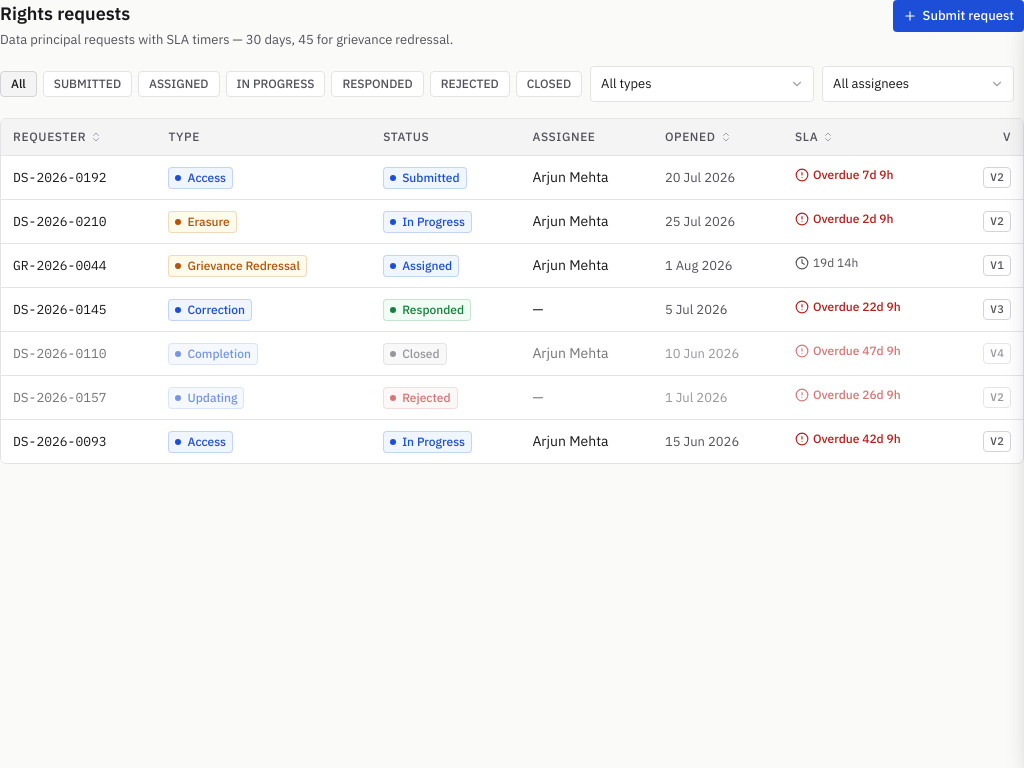
Test case: RightsView (§9.6) › rejects a request — summary is required and becomes part of the audit trail
Click the text "DS-2026-0192" at (60, 177), box [13, 169, 107, 186]
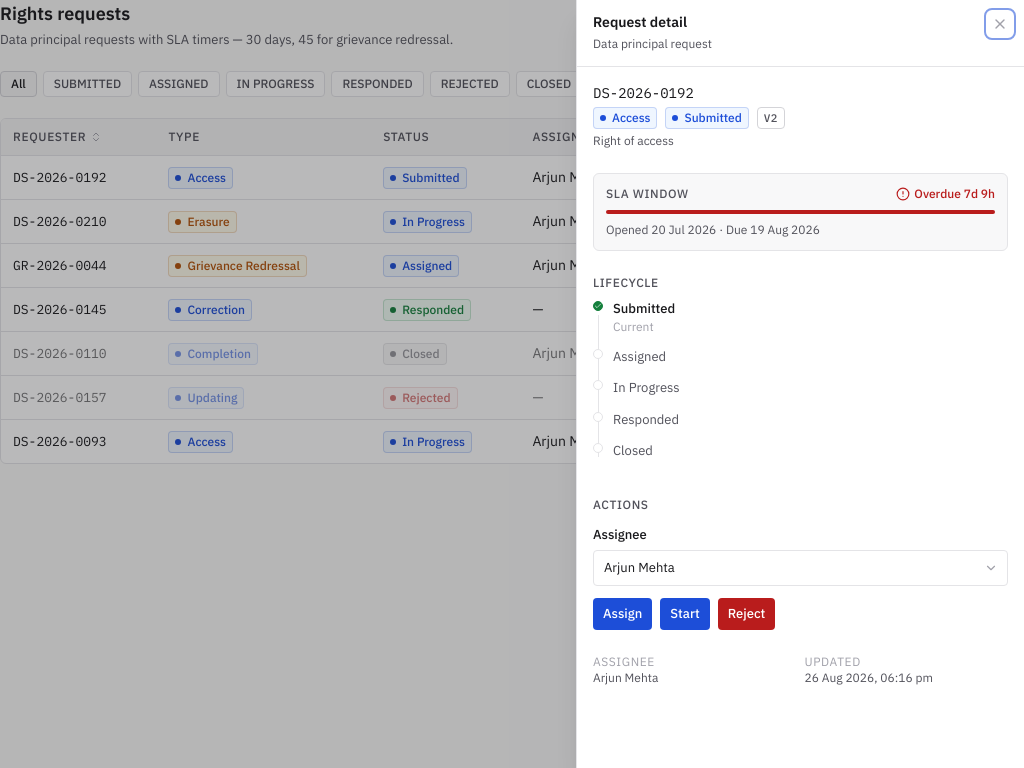
Click the button "Reject" at (747, 614), box [718, 598, 775, 630]
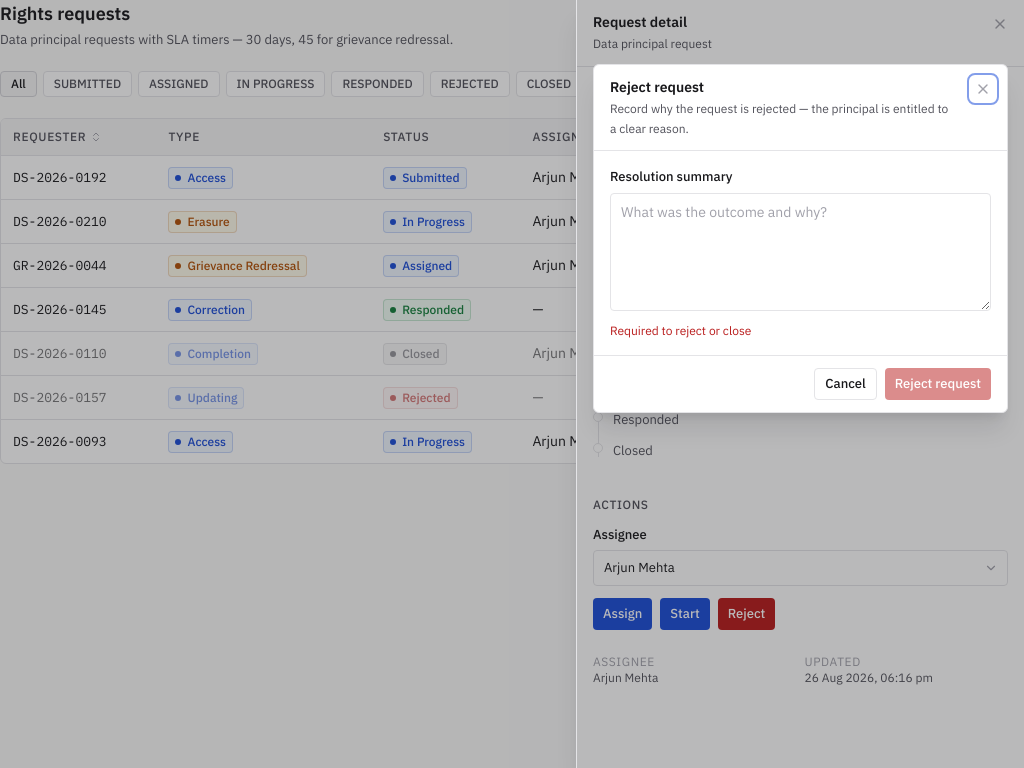
Expected: the button "Reject request" is disabled, [885, 368, 991, 400]
Type "Identity could not be verified against records." into the text box labelled "Resolution summary" at (800, 252), box [610, 192, 991, 310]
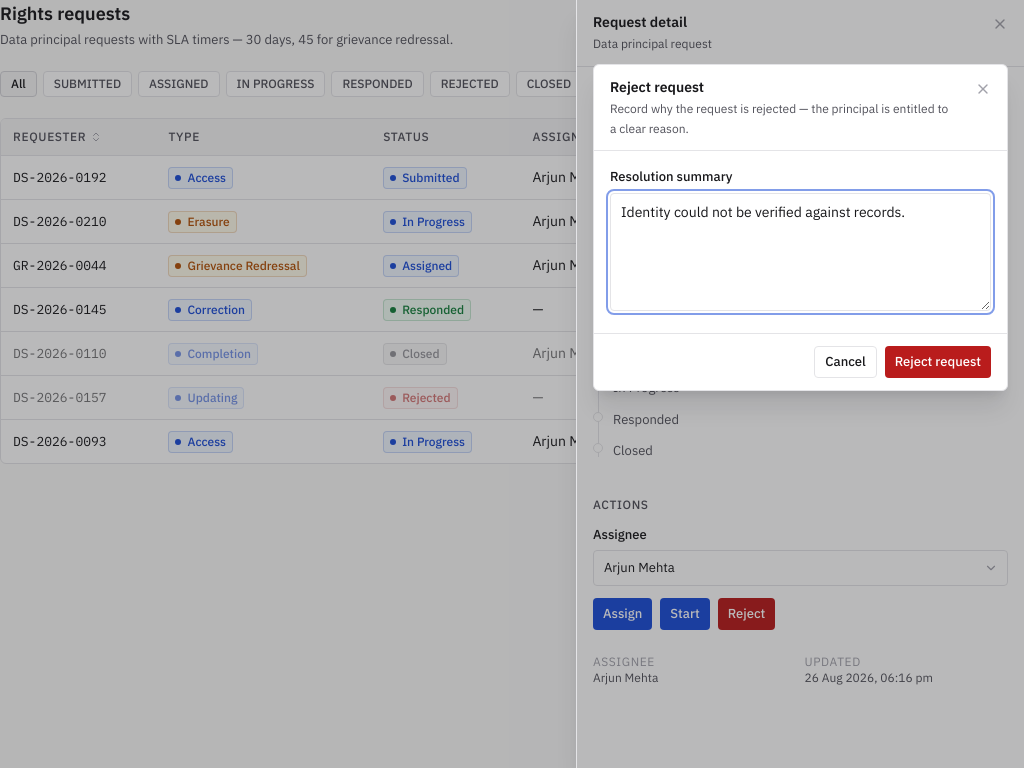
Click the button "Reject request" at (938, 362), box [885, 346, 991, 378]
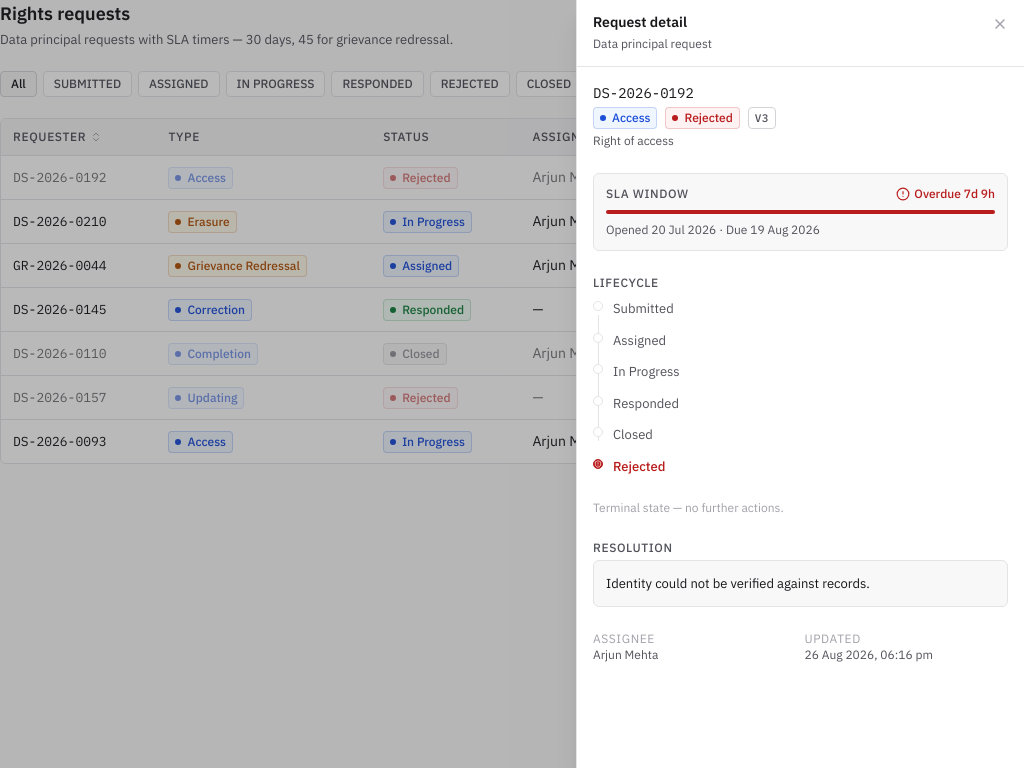
Expected: the text "Terminal state — no further actions." is shown, [593, 500, 784, 515]
